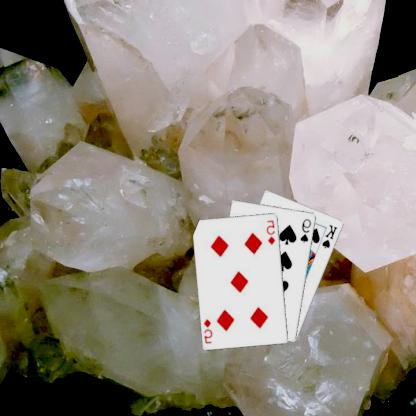5D: (266, 217, 278, 246), (203, 316, 215, 344)
9S: (300, 216, 314, 244)
KS: (321, 222, 341, 249)
